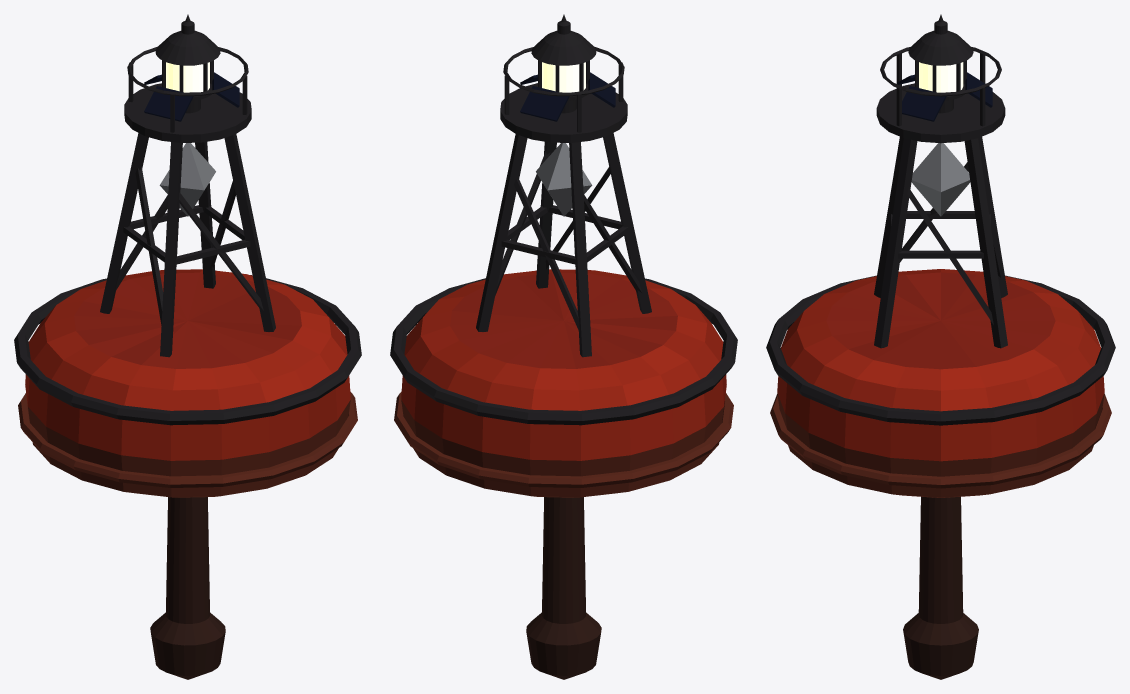
Rendered from buoy.glb.
3 views of the same model, side by side, from view 1: azimuth 30°, elevation 25°; view 2: azimuth 150°, elevation 25°; view 3: azimuth 270°, elevation 25° (orthographic).
Parts seen in each view (by area): view 1: buoy; view 2: buoy; view 3: buoy.
Part boxes in pixels (<box>): buoy: <box>14,14,361,679</box>; buoy: <box>390,14,737,679</box>; buoy: <box>766,14,1115,679</box>.
Bounding box in the file's own units: 5.34 × 11.22 × 5.34.
